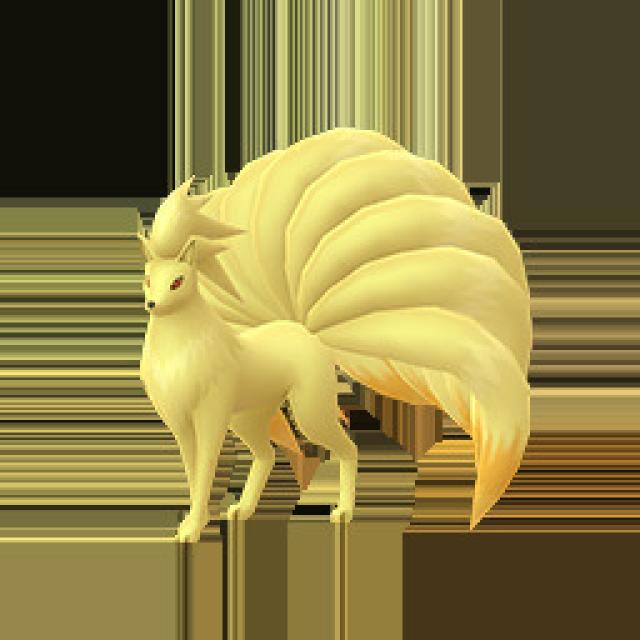Ninetales: (132, 127, 440, 545)
